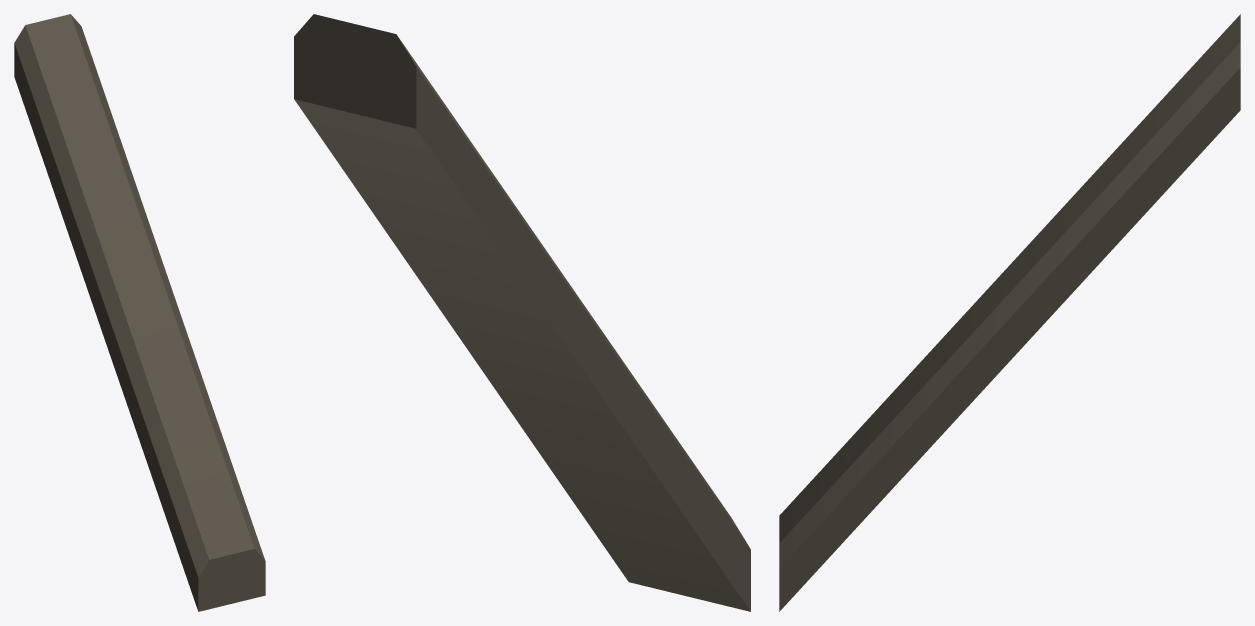
Rendered from samurai_SM_Bld_Base_Roof_Cap_Angle_Half_01.gltf.
The picture shows the model from 3 angles, left to right: view 1: azimuth 30°, elevation 25°; view 2: azimuth 150°, elevation 25°; view 3: azimuth 270°, elevation 25°; orthographic projection. The views are drawn at different scales.
Visible parts, largest first — view 1: SM_Bld_Base_Roof_Cap_Angle_Half_01; view 2: SM_Bld_Base_Roof_Cap_Angle_Half_01; view 3: SM_Bld_Base_Roof_Cap_Angle_Half_01.
Boxes of the visible parts, <box> form: SM_Bld_Base_Roof_Cap_Angle_Half_01: <box>14,14,265,611</box>; SM_Bld_Base_Roof_Cap_Angle_Half_01: <box>294,14,750,611</box>; SM_Bld_Base_Roof_Cap_Angle_Half_01: <box>779,14,1240,611</box>.
Size of the model in its own units: 0.2635 by 1.69 by 1.25.
1 material, 1 textured.
